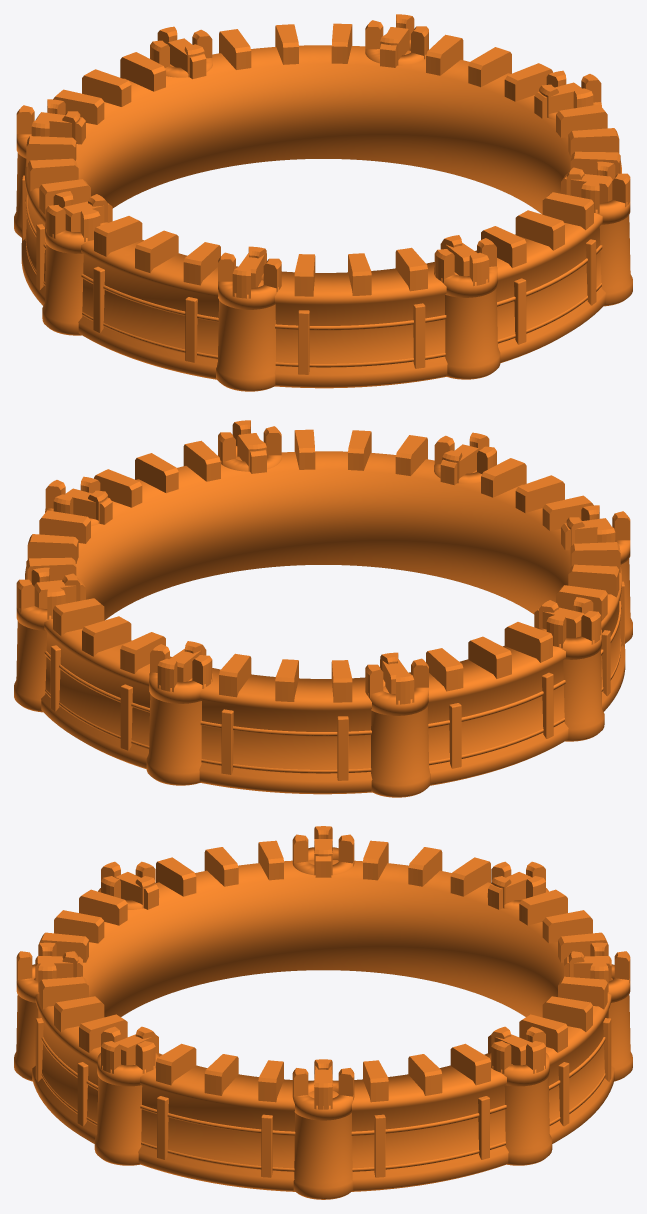
File: city-wall-orange.fbx
3 views of the same model, one above another, from view 1: azimuth 30°, elevation 25°; view 2: azimuth 150°, elevation 25°; view 3: azimuth 270°, elevation 25° (orthographic). The views are drawn at different scales.
Visible parts, largest first — view 1: City_Wall_Moulded_Ring; view 2: City_Wall_Moulded_Ring; view 3: City_Wall_Moulded_Ring.
Part boxes in pixels (box(x1,y1,x2,y2)): City_Wall_Moulded_Ring: box(14, 14, 632, 391); City_Wall_Moulded_Ring: box(14, 420, 632, 797); City_Wall_Moulded_Ring: box(14, 826, 632, 1199).
Bounding box in the file's own units: 0.024 × 0.005 × 0.024.
